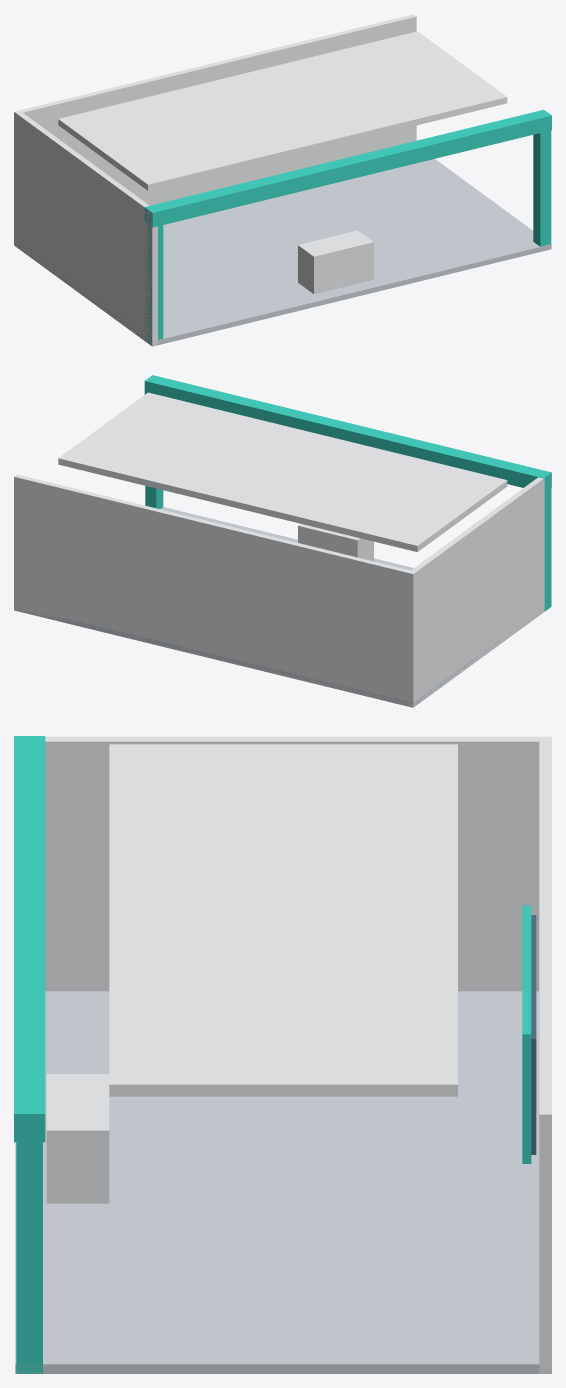
3 renders of one model, top to bottom at view 1: azimuth 30°, elevation 25°; view 2: azimuth 150°, elevation 25°; view 3: azimuth 270°, elevation 25°, orthographic. The views are drawn at different scales.
Parts seen in each view (by area): view 1: Exhibition Booth Concept; view 2: Exhibition Booth Concept; view 3: Exhibition Booth Concept.
Boxes of the visible parts, x1=… form: Exhibition Booth Concept: x1=14, y1=14, x2=551, y2=346; Exhibition Booth Concept: x1=14, y1=375, x2=551, y2=707; Exhibition Booth Concept: x1=14, y1=736, x2=551, y2=1373.
Bounding box in the file's own units: 10 × 3.34 × 6.02.
